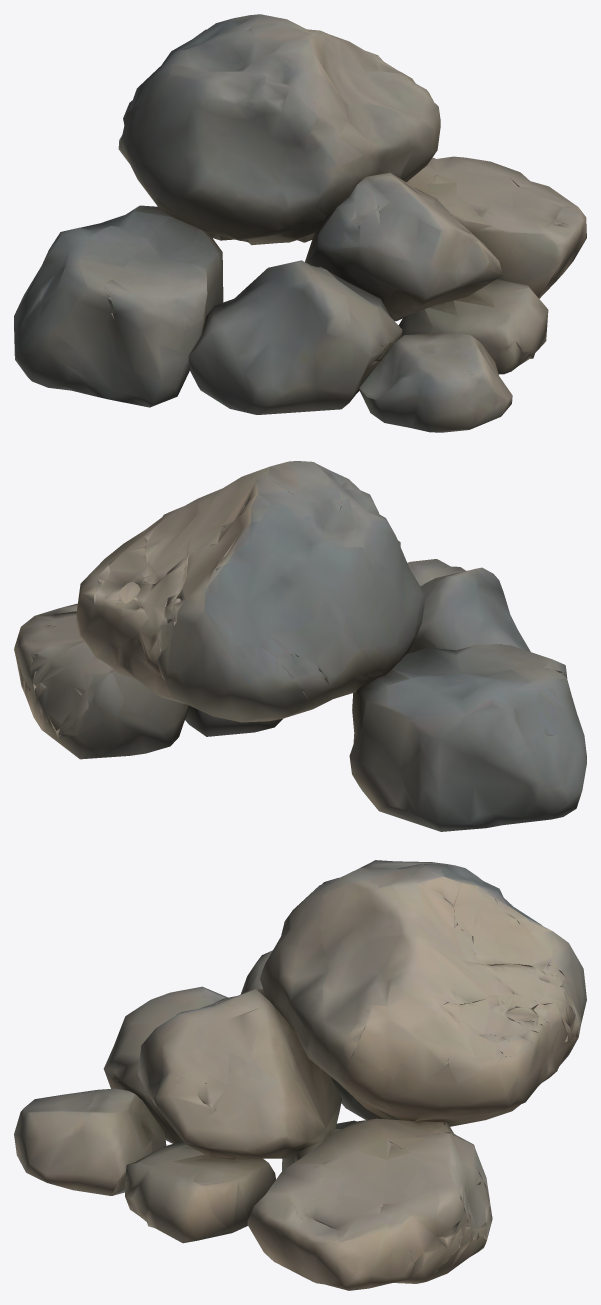
The model's file is rock_pile.glb.
3 renders of one model, top to bottom at view 1: azimuth 30°, elevation 25°; view 2: azimuth 150°, elevation 25°; view 3: azimuth 270°, elevation 25°, orthographic. The views are drawn at different scales.
Visible parts, largest first — view 1: tripo_node_cd935880-6921-4c40-9a6c-824a5d799c42; view 2: tripo_node_cd935880-6921-4c40-9a6c-824a5d799c42; view 3: tripo_node_cd935880-6921-4c40-9a6c-824a5d799c42.
Boxes of the visible parts, bbox=[...] form: tripo_node_cd935880-6921-4c40-9a6c-824a5d799c42: bbox=[14, 14, 586, 432]; tripo_node_cd935880-6921-4c40-9a6c-824a5d799c42: bbox=[14, 461, 586, 831]; tripo_node_cd935880-6921-4c40-9a6c-824a5d799c42: bbox=[14, 860, 586, 1290].
Size of the model in its own units: 1.43 by 0.6996 by 1.22.
Materials: 1 (1 with a texture image).
